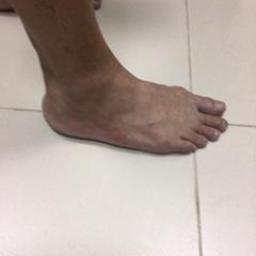Lateral View -Right Foot-: (28, 45, 232, 166)
